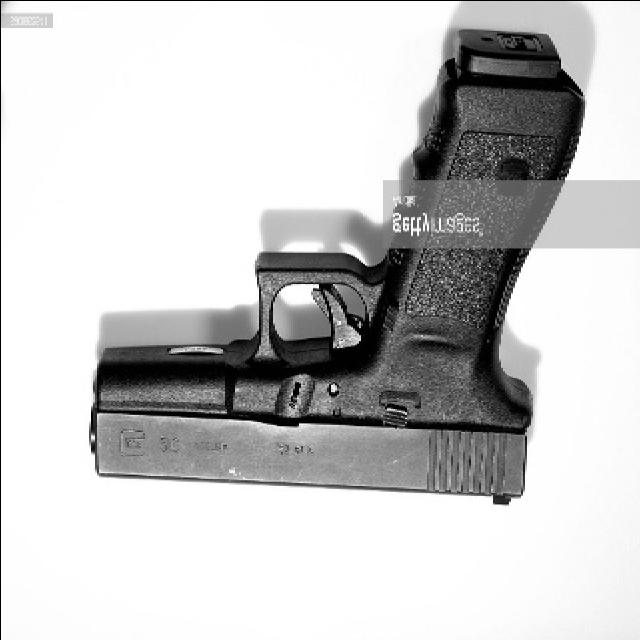handgun: (83, 20, 587, 512)
